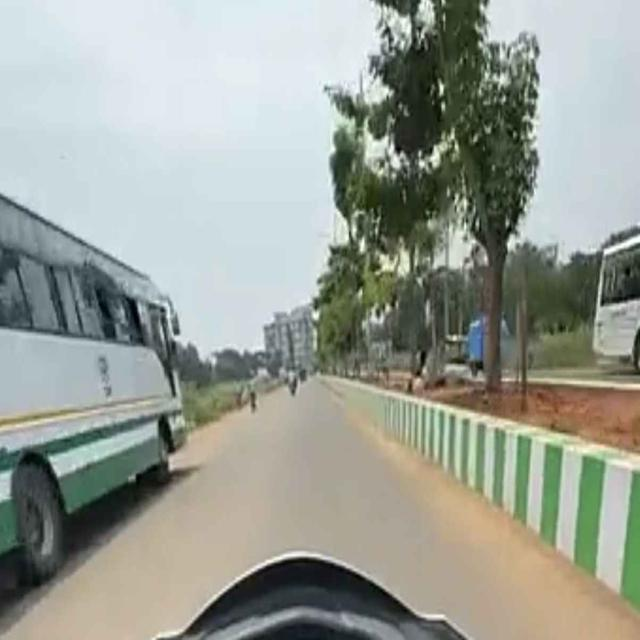bus: (2, 171, 201, 596), (596, 222, 640, 397)
